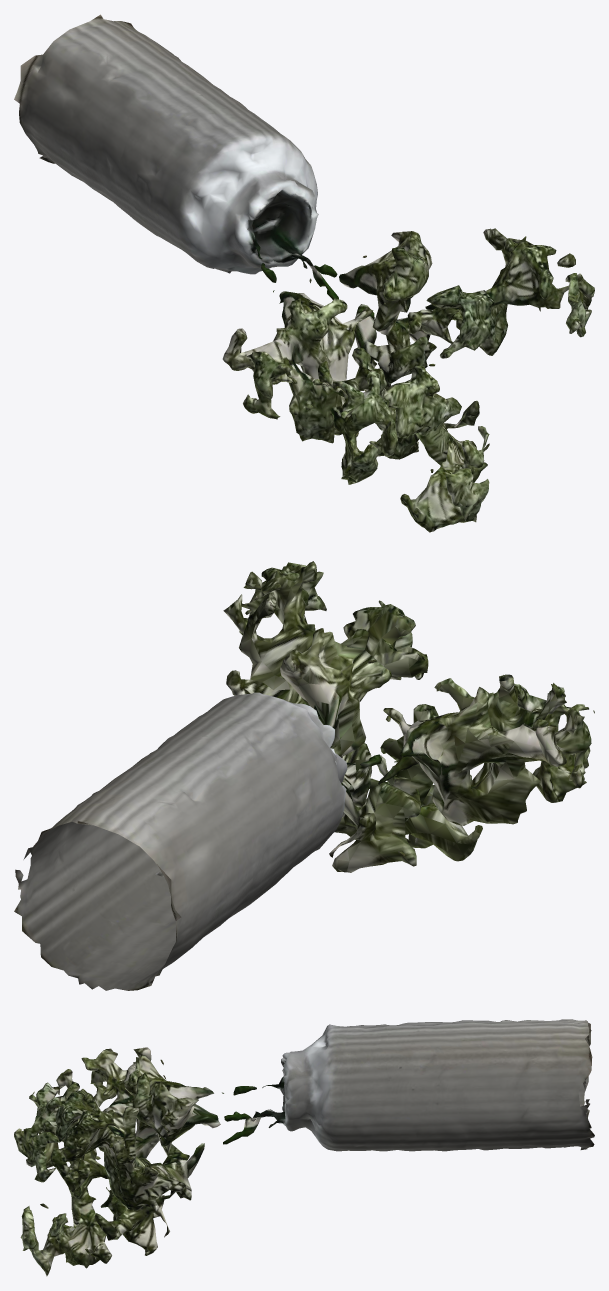
Rendered from kusa_1.obj.
The picture shows the model from 3 angles, top to bottom: view 1: azimuth 30°, elevation 25°; view 2: azimuth 150°, elevation 25°; view 3: azimuth 270°, elevation 25°; orthographic projection. The views are drawn at different scales.
Parts seen in each view (by area): view 1: Group_Global; view 2: Group_Global; view 3: Group_Global.
Boxes of the visible parts, x1,y1,x2,y2 form: Group_Global: [14, 14, 594, 532]; Group_Global: [14, 561, 594, 990]; Group_Global: [14, 1019, 594, 1276].
Bounding box in the file's own units: 14.85 × 12.01 × 27.73.
1 material, 1 textured.
